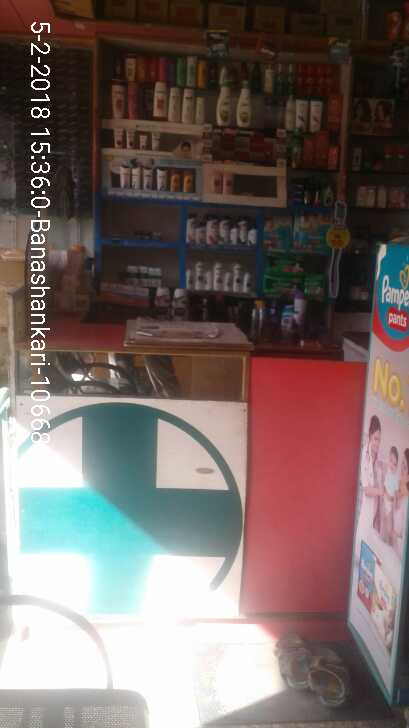beauty: (194, 258, 206, 290), (214, 258, 223, 293), (233, 260, 241, 293), (183, 269, 195, 291), (137, 263, 148, 287), (223, 269, 235, 290), (150, 267, 162, 288), (241, 272, 253, 292), (206, 271, 217, 291), (125, 265, 136, 285)
pharmacy: (296, 216, 330, 254), (262, 267, 305, 296), (266, 215, 294, 250), (304, 271, 324, 295)
